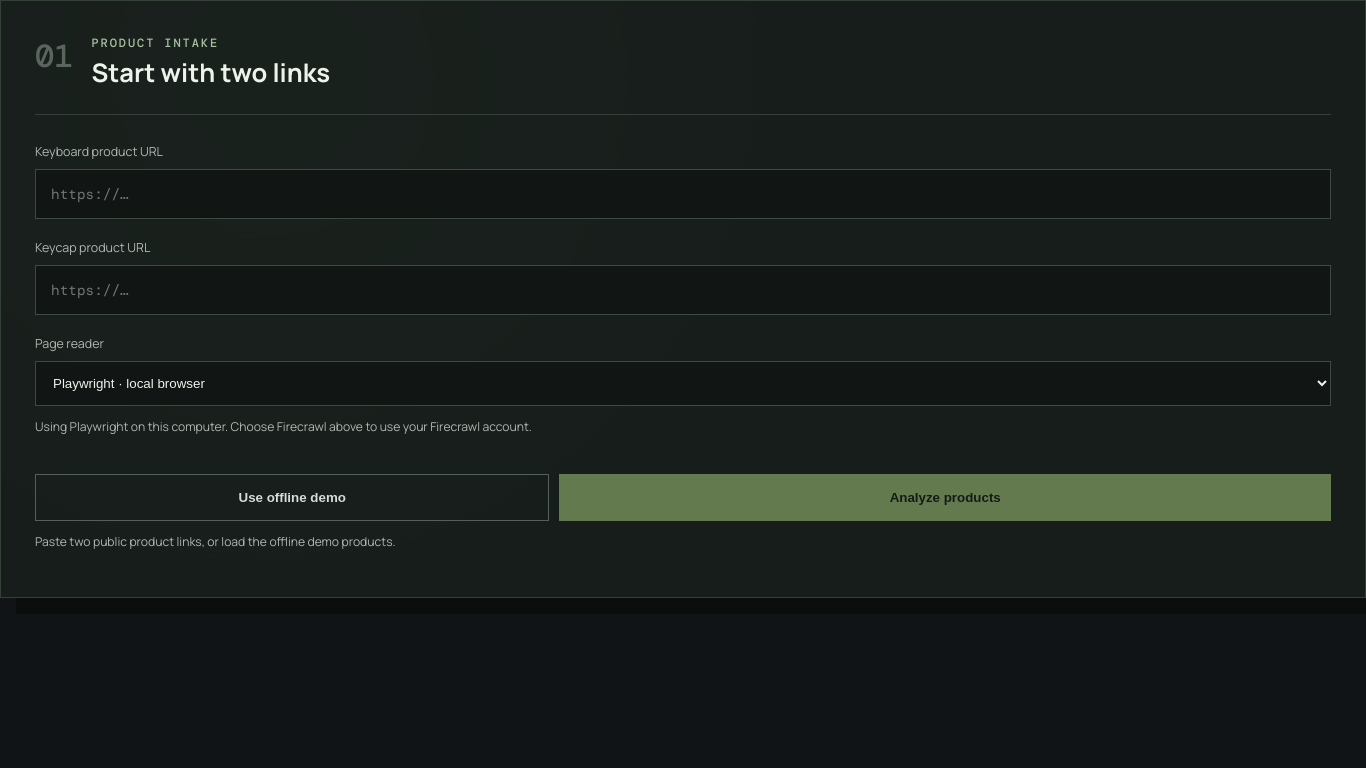
rejects the same page in both product fields before creating a job
The width and height of the screenshot is (1366, 768).
In the field labelled "Keyboard product URL": point(683, 194) [35,169,1331,219], type "https://shop.example/product"
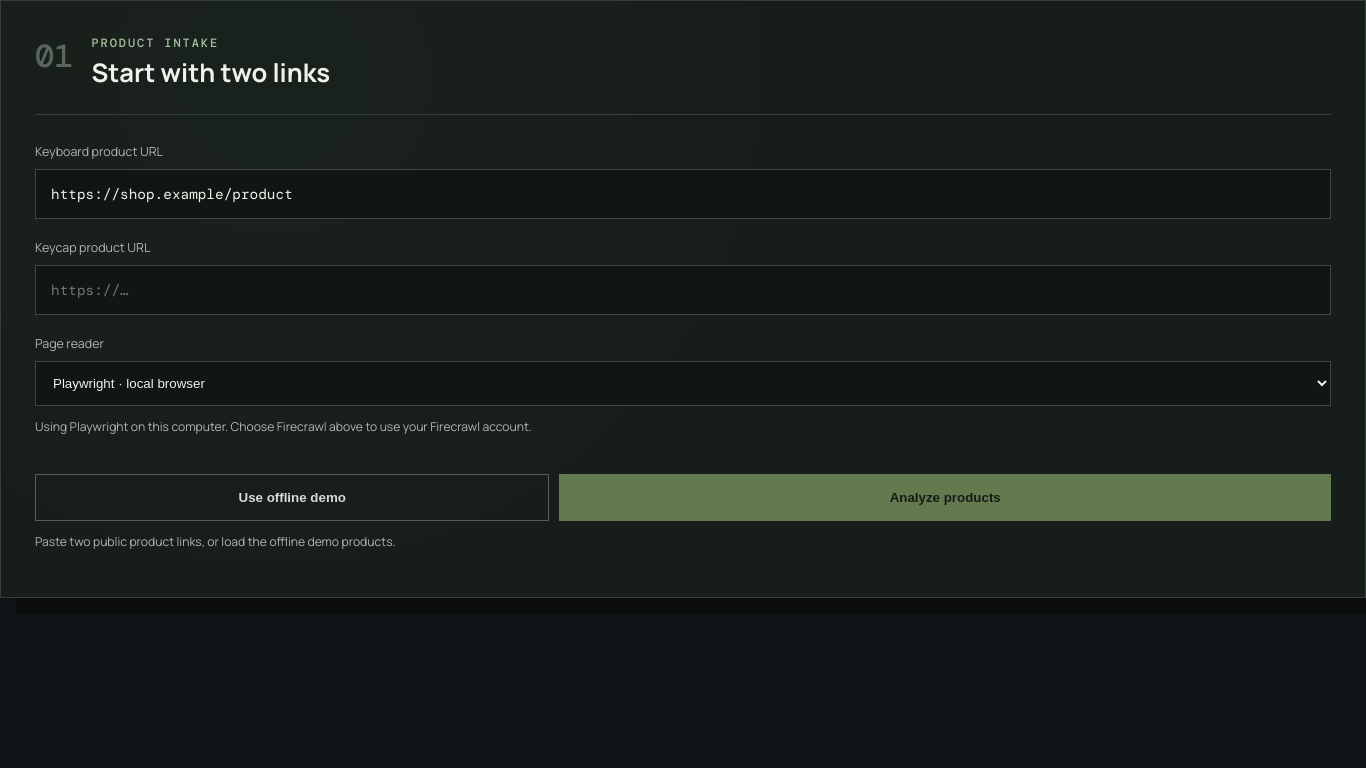
In the field labelled "Keycap product URL": point(683, 290) [35,265,1331,315], type "https://shop.example/product"
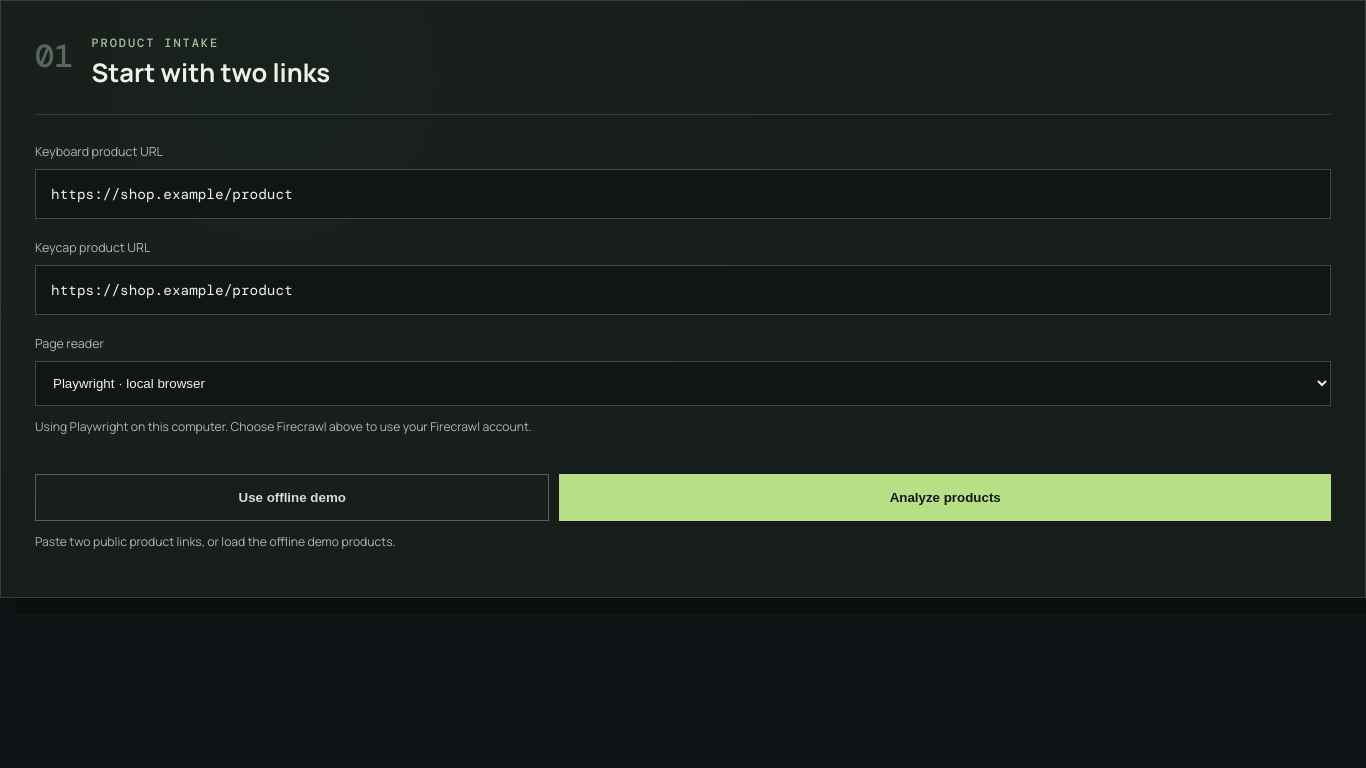
Click the button "Analyze products": point(945, 497) [559,474,1331,520]
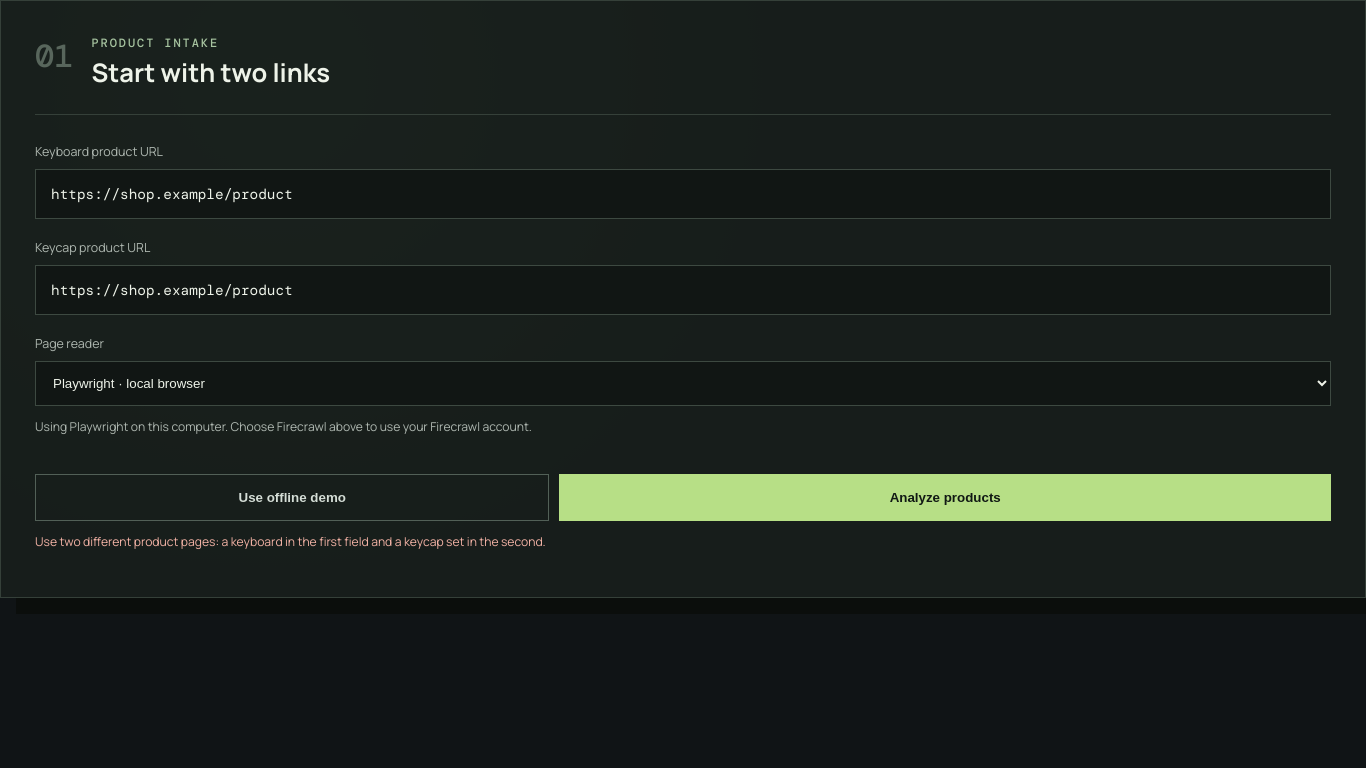
Expected: the message shows "two different product pages", [35,533,546,550]
